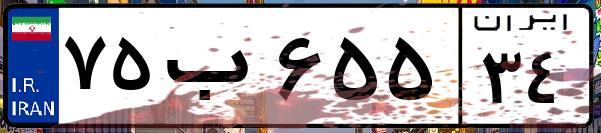3: (475, 38, 525, 113)
4: (525, 38, 570, 115)
5: (385, 28, 445, 110), (330, 28, 385, 110), (110, 28, 158, 98)
6: (270, 28, 330, 110)
7: (57, 26, 110, 100)
ب: (158, 20, 270, 120)
